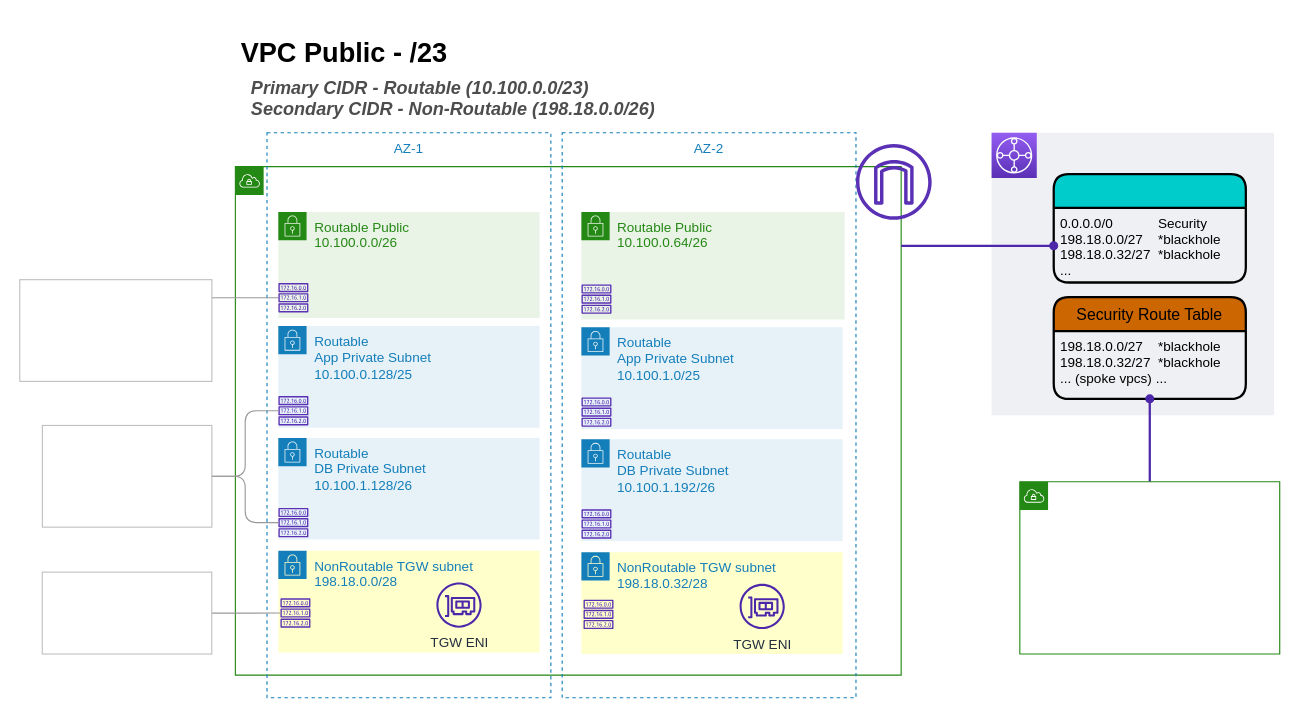
Image size: 1300x718. Some labels were removed from this diagram. The shapes that lost their labels are listed below. From the top down, each one's box as (x1, y1, x2, y2) in pixels, then its label:
(990, 132, 1037, 178): Transit Gateway
(1052, 172, 1246, 283): Spokes Route Table
(19, 279, 212, 381): CIDR Next Hop 10.100.0.0/23 local 198.18.0.0/26 local 0.0.0.0/0 IGW
(234, 166, 901, 675): VPC
(41, 424, 212, 527): CIDR Next Hop 10.100.0.0/23 local 198.18.0.0/26 local 0.0.0.0/0 TGW
(1019, 481, 1280, 654): Security VPC
(41, 571, 212, 654): CIDR Next Hop /23 local 198.18.0.0/26 local
